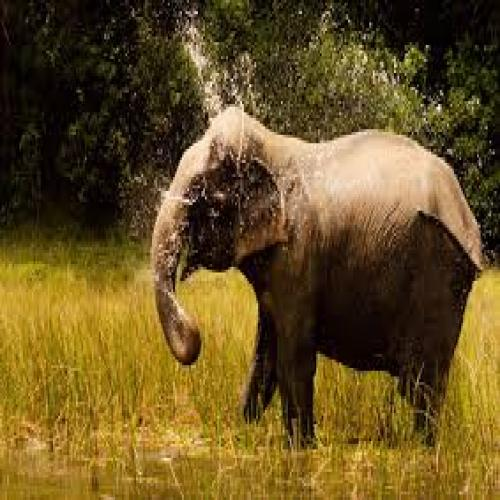asian_elephant-endangered: (152, 109, 480, 446)
